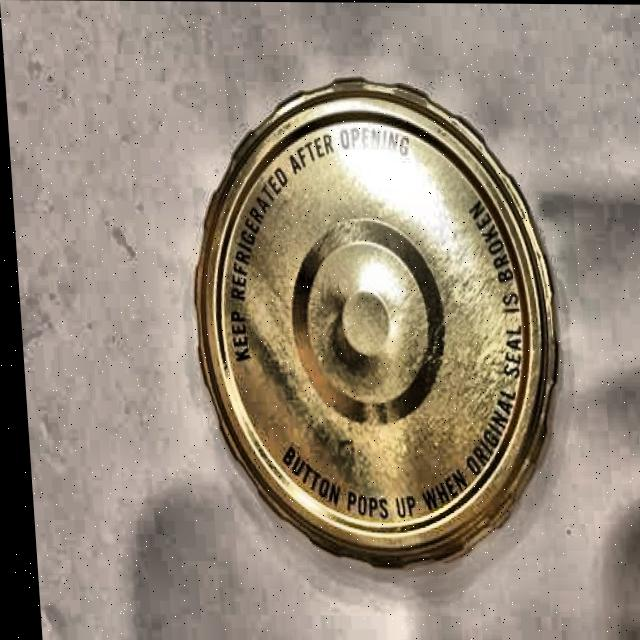metal: (179, 73, 576, 570)
